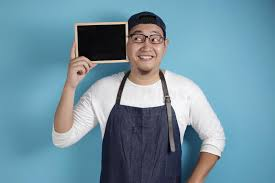asian_male: (122, 22, 170, 76)
